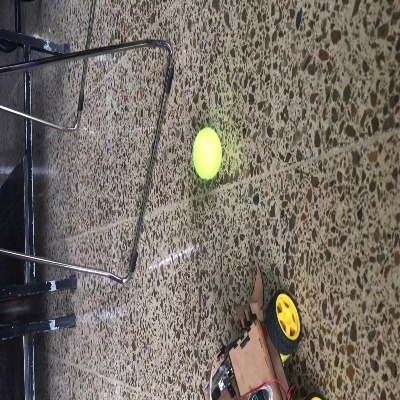Ball: (192, 128, 221, 179)
Robot: (202, 265, 324, 398)
